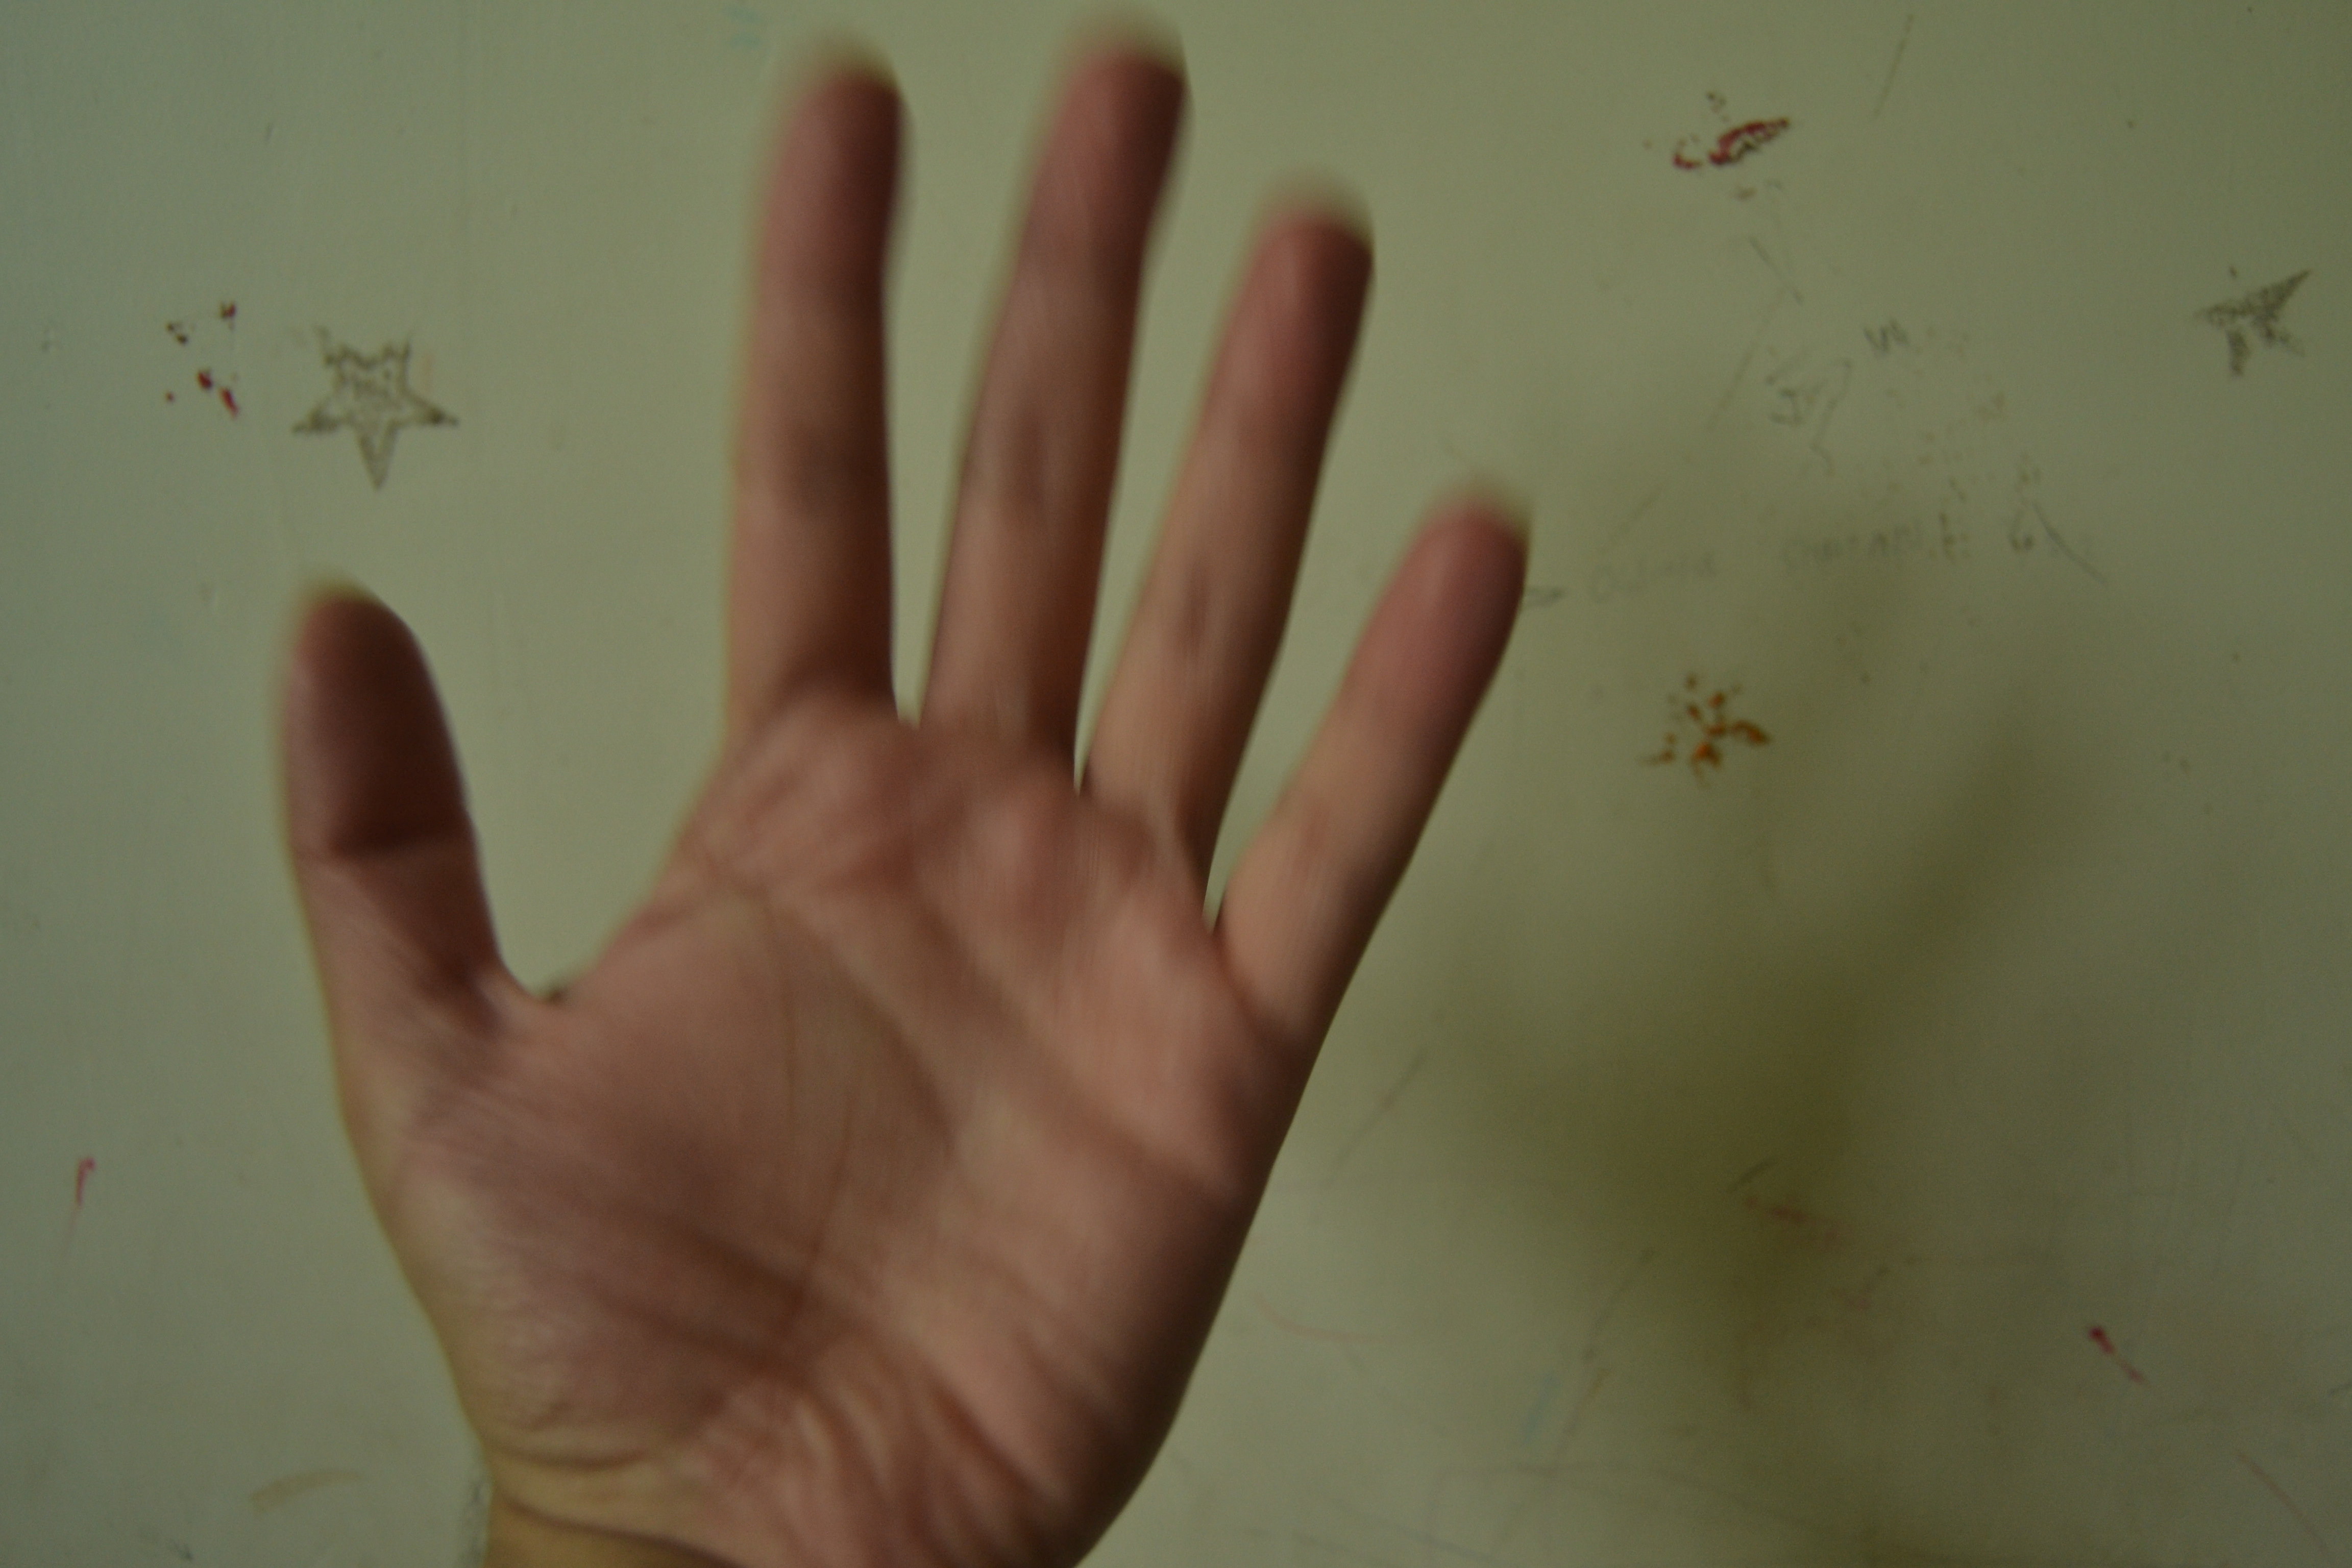move: (226, 38, 1547, 1447)
